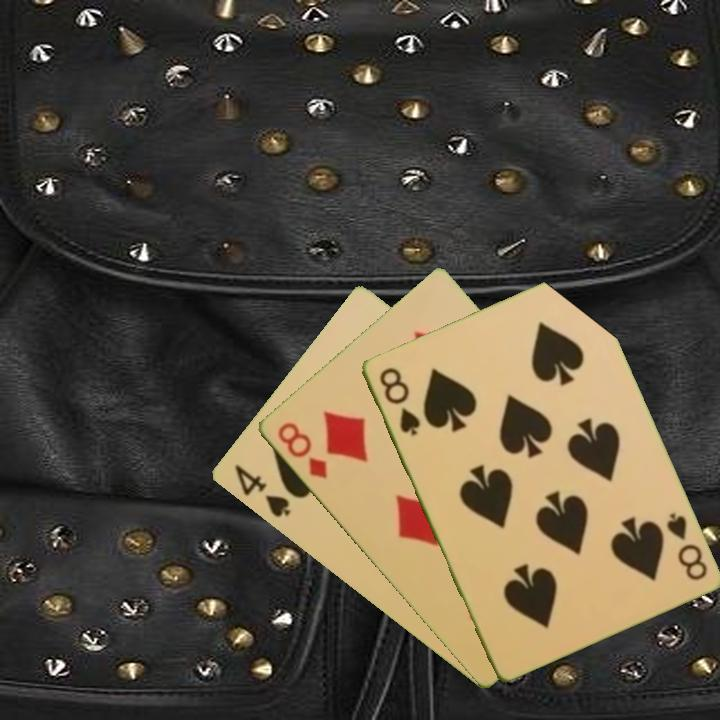4s: (230, 460, 293, 520)
8d: (273, 418, 330, 482)
8s: (375, 363, 423, 439), (662, 509, 710, 584)
